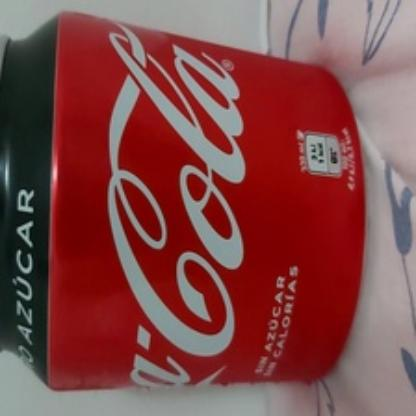Can: (0, 10, 366, 390)
